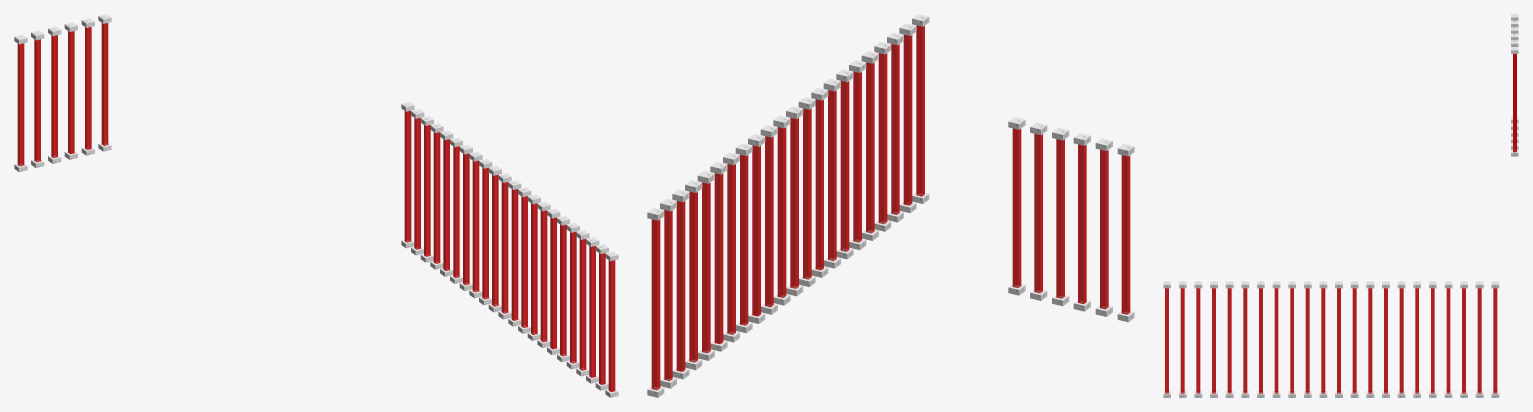
File: laser.obj
3 views of the same model, side by side, from view 1: azimuth 30°, elevation 25°; view 2: azimuth 150°, elevation 25°; view 3: azimuth 270°, elevation 25° (orthographic). The views are drawn at different scales.
Parts seen in each view (by area): view 1: StructureBaseHome57, StructureBaseHome24, StructureBaseHome84, StructureBaseHome27, StructureBaseHome42, StructureBaseHome60, StructureBaseHome75, StructureBaseHome69, StructureBaseHome21, StructureBaseHome6, StructureBaseHome39, StructureBaseHome45 (+16 smaller); view 2: StructureBaseHome84, StructureBaseHome42, StructureBaseHome81, StructureBaseHome36, StructureBaseHome30, StructureBaseHome45, StructureBaseHome57, StructureBaseHome21, StructureBaseHome6, StructureBaseHome27, StructureBaseHome48, StructureBaseHome39 (+16 smaller); view 3: StructureBaseHome3, StructureBaseHome27, StructureBaseHome33, StructureBaseHome36, StructureBaseHome39, StructureBaseHome48, StructureBaseHome51, StructureBaseHome53, StructureBaseHome60, StructureBaseHome63, StructureBaseHome69, StructureBaseHome72 (+11 smaller).
Boxes of the visible parts, box(x1,y1,x2,y2) form: StructureBaseHome57: box(501, 182, 508, 313); StructureBaseHome24: box(608, 260, 615, 391); StructureBaseHome84: box(404, 110, 411, 242); StructureBaseHome27: box(433, 132, 440, 263); StructureBaseHome42: box(579, 239, 586, 370); StructureBaseHome60: box(511, 189, 518, 320); StructureBaseHome75: box(472, 160, 479, 292); StructureBaseHome69: box(540, 210, 547, 342); StructureBaseHome21: box(17, 43, 24, 166); StructureBaseHome6: box(101, 23, 108, 145); StructureBaseHome39: box(570, 231, 576, 363); StructureBaseHome45: box(550, 217, 556, 349); StructureBaseHome84: box(651, 219, 660, 390); StructureBaseHome42: box(878, 53, 887, 224); StructureBaseHome81: box(714, 173, 723, 343); StructureBaseHome36: box(903, 34, 912, 205); StructureBaseHome30: box(676, 201, 685, 371); StructureBaseHome45: box(840, 81, 849, 251); StructureBaseHome57: box(777, 127, 786, 297); StructureBaseHome21: box(1121, 155, 1130, 314); StructureBaseHome6: box(1012, 128, 1021, 287); StructureBaseHome27: box(689, 191, 697, 362); StructureBaseHome48: box(853, 71, 861, 242); StructureBaseHome39: box(866, 62, 874, 233); StructureBaseHome3: box(1477, 288, 1481, 393); StructureBaseHome27: box(1446, 288, 1450, 393); StructureBaseHome33: box(1196, 288, 1200, 393); StructureBaseHome36: box(1180, 288, 1184, 393); StructureBaseHome39: box(1227, 288, 1231, 393); StructureBaseHome48: box(1243, 288, 1247, 393); StructureBaseHome51: box(1368, 288, 1372, 393); StructureBaseHome53: box(1352, 288, 1356, 393); StructureBaseHome60: box(1321, 288, 1325, 393); StructureBaseHome63: box(1305, 288, 1309, 393); StructureBaseHome69: box(1274, 288, 1278, 393); StructureBaseHome72: box(1399, 288, 1403, 393).
Size of the model in its own units: 45.5 by 33 by 45.5.
Materials: 2 (1 with a texture image).
